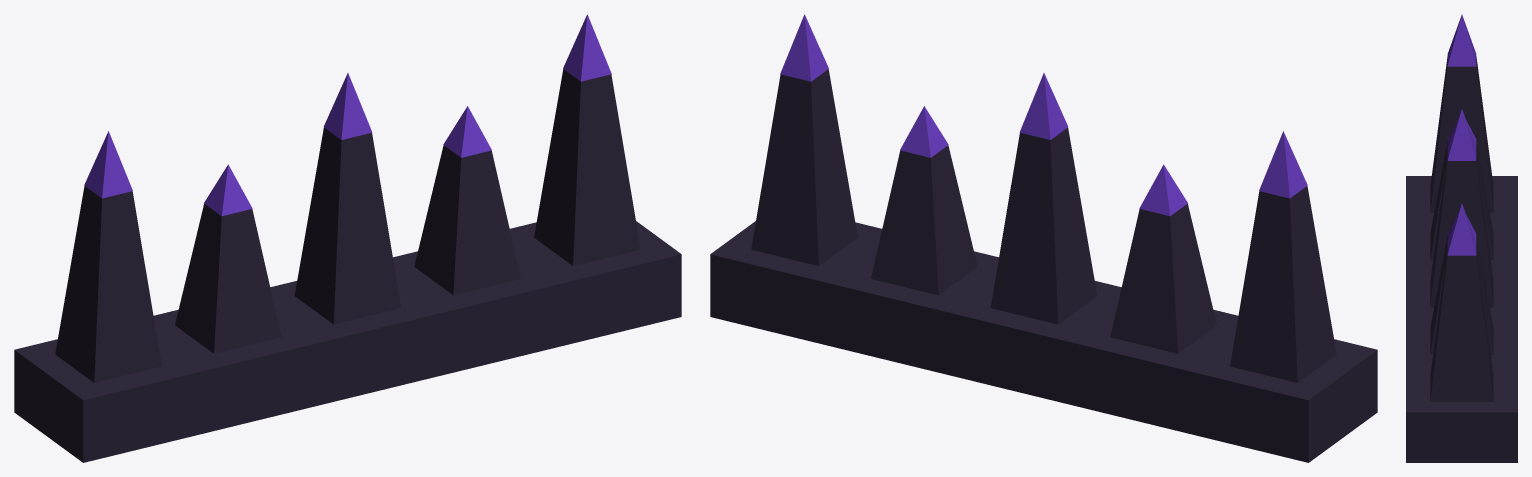
The model's file is env_r16_obsidian_spike_row.glb.
3 views of the same model, side by side, from view 1: azimuth 30°, elevation 25°; view 2: azimuth 150°, elevation 25°; view 3: azimuth 270°, elevation 25° (orthographic). The views are drawn at different scales.
Parts seen in each view (by area): view 1: env_r16_obsidian_spike_row; view 2: env_r16_obsidian_spike_row; view 3: env_r16_obsidian_spike_row.
Part boxes in pixels (x1,y1,x2,y2): env_r16_obsidian_spike_row: (14, 14, 681, 462); env_r16_obsidian_spike_row: (710, 14, 1377, 462); env_r16_obsidian_spike_row: (1406, 14, 1517, 462).
Size of the model in its own units: 3 by 1.4 by 0.6.
Materials: 1 (1 with a texture image).
